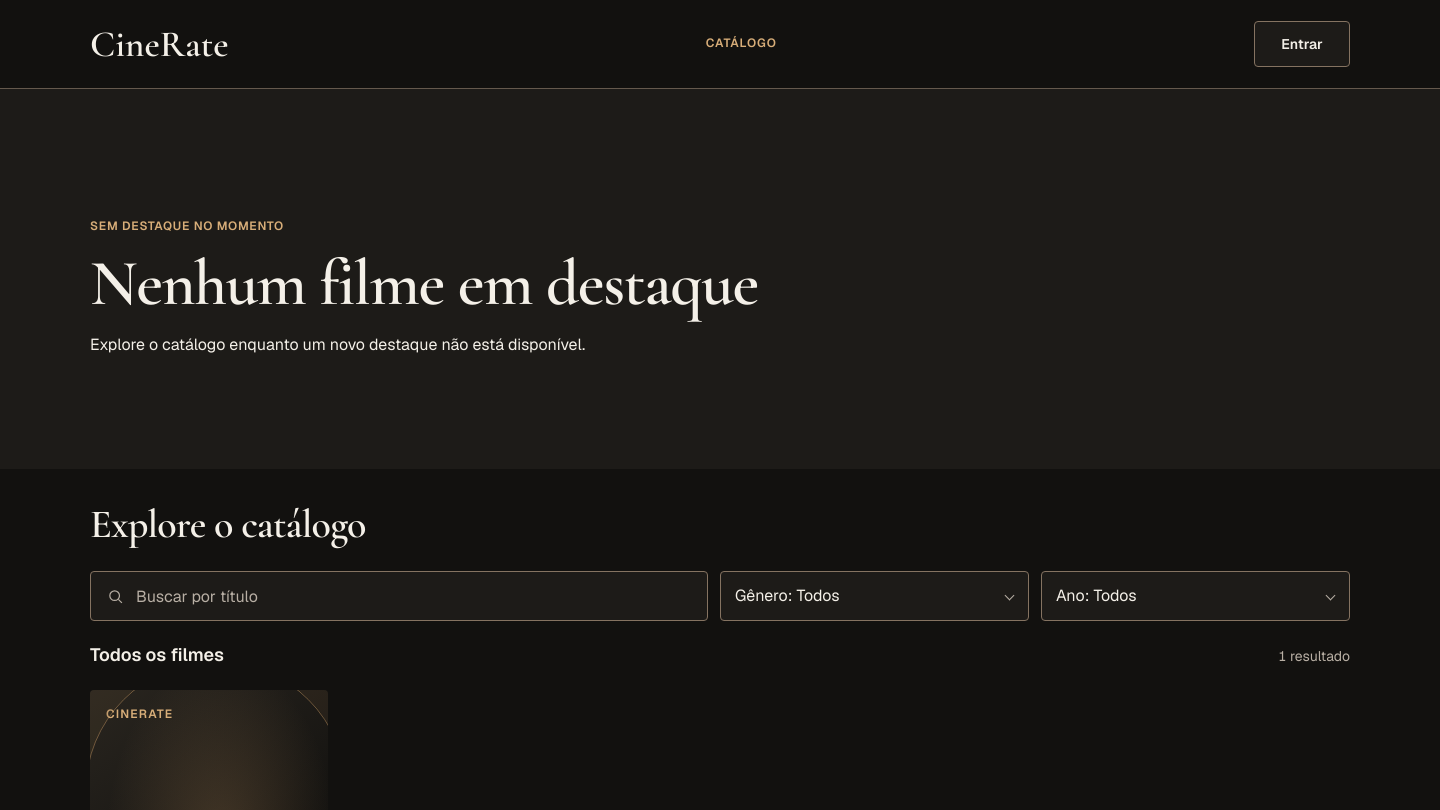
Test case: login revela administração e logout a oculta; credenciais inválidas mostram erro
Click the button "Entrar": (1302, 44) [1254,21,1350,67]
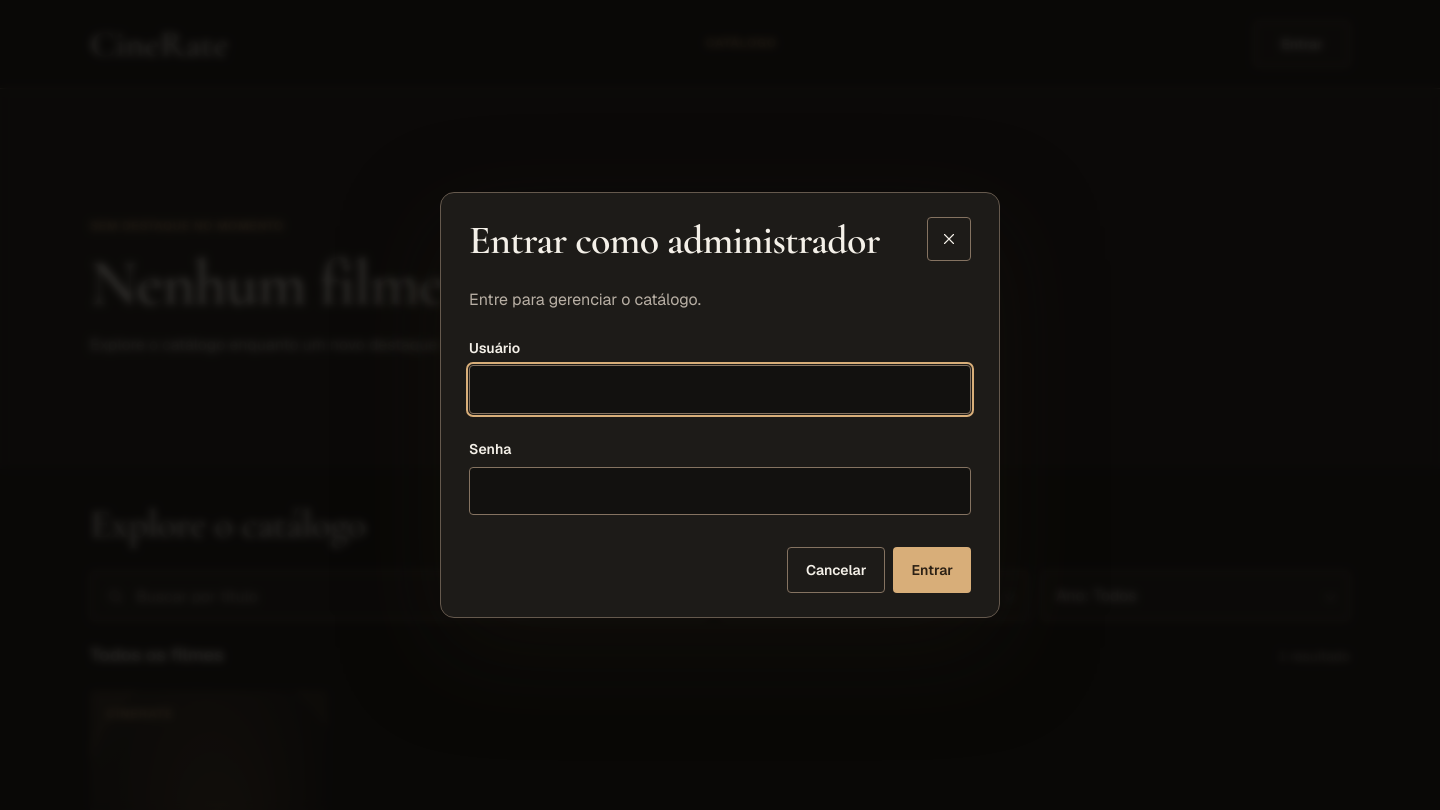
In the field labelled "Usuário": (720, 390) [469,365,971,414], type "admin"
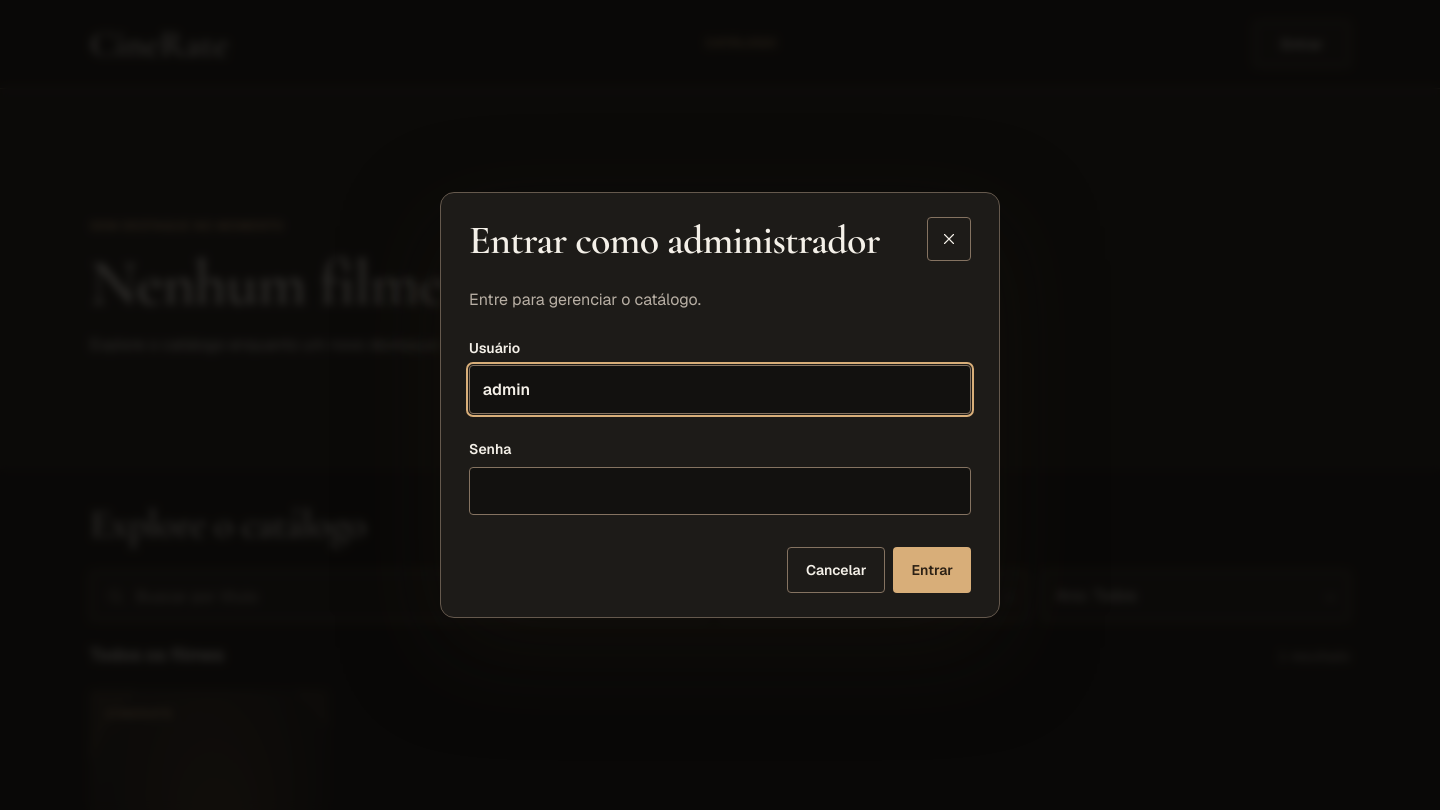
In the password field labelled "Senha": (720, 491) [469,467,971,515], type "errada"
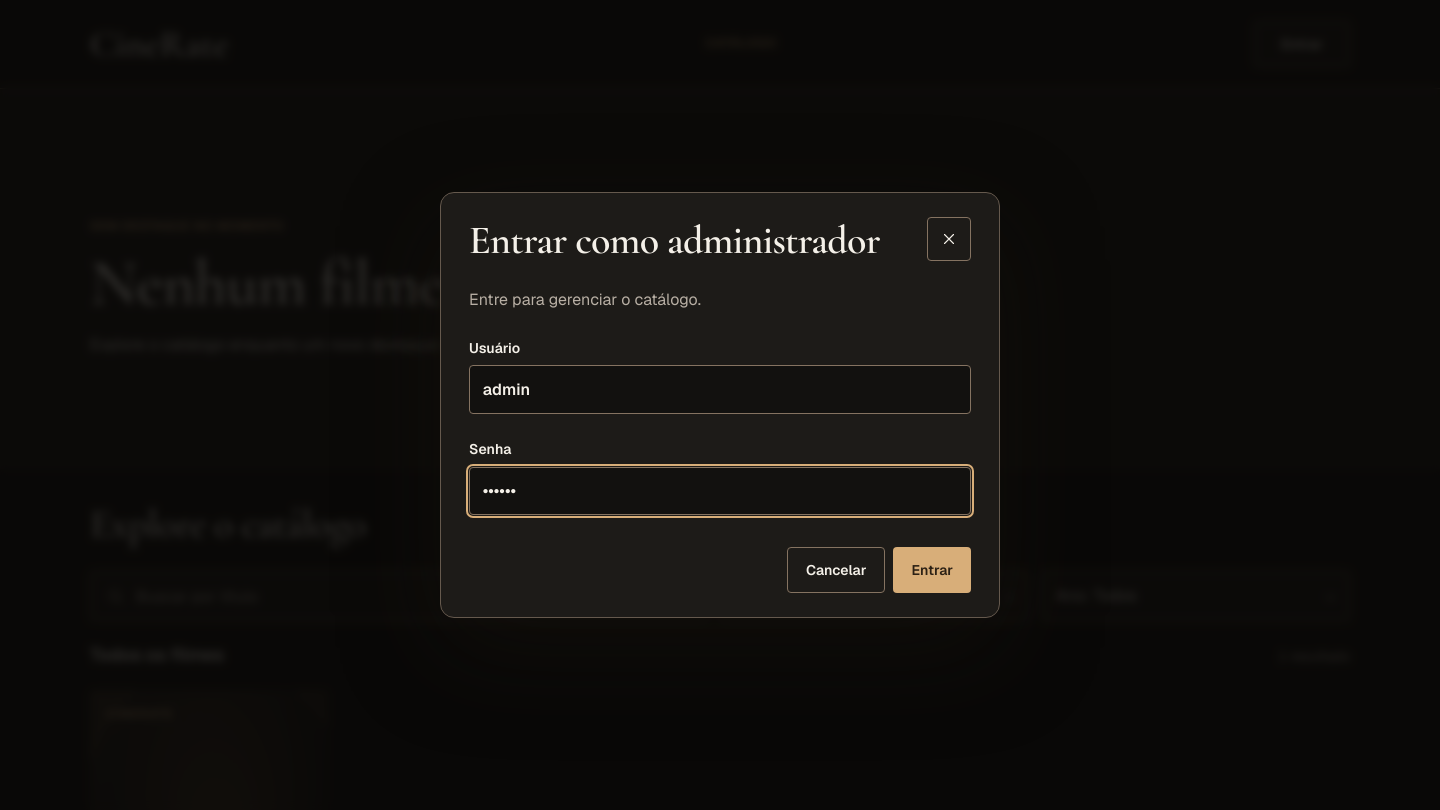
Click the button "Entrar": (932, 570) [893,547,971,593]
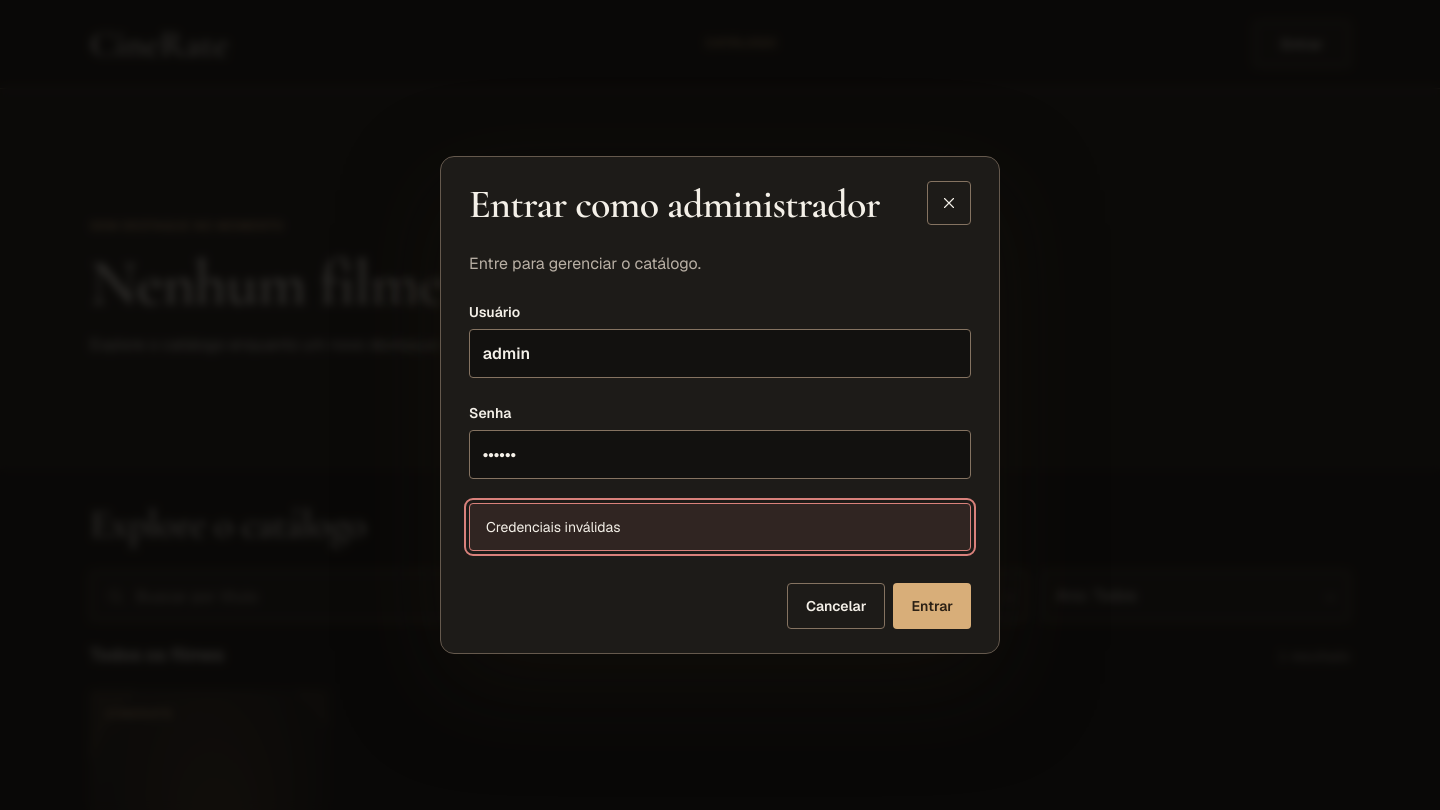
expect the message reads "Credenciais inválidas": met, box [486,518,620,536]
Click the button "Entrar": (932, 606) [893,583,971,629]
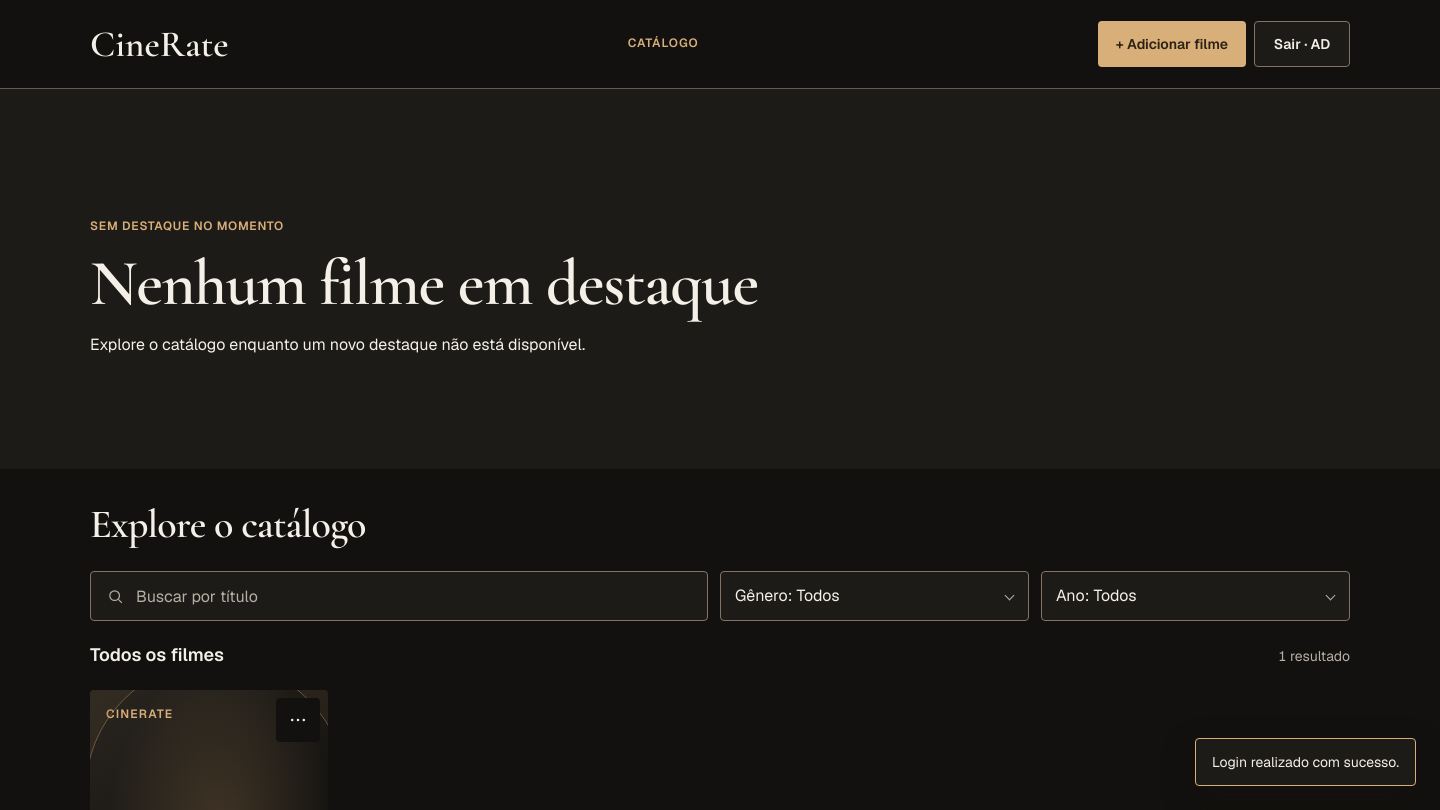
expect the button "+ Adicionar filme" is shown: met, box [1098,21,1246,67]
expect the heading named "Opções para Filme um" is shown: met, box [288,710,308,730]
Click the button "Sair · AD": (1302, 44) [1254,21,1350,67]
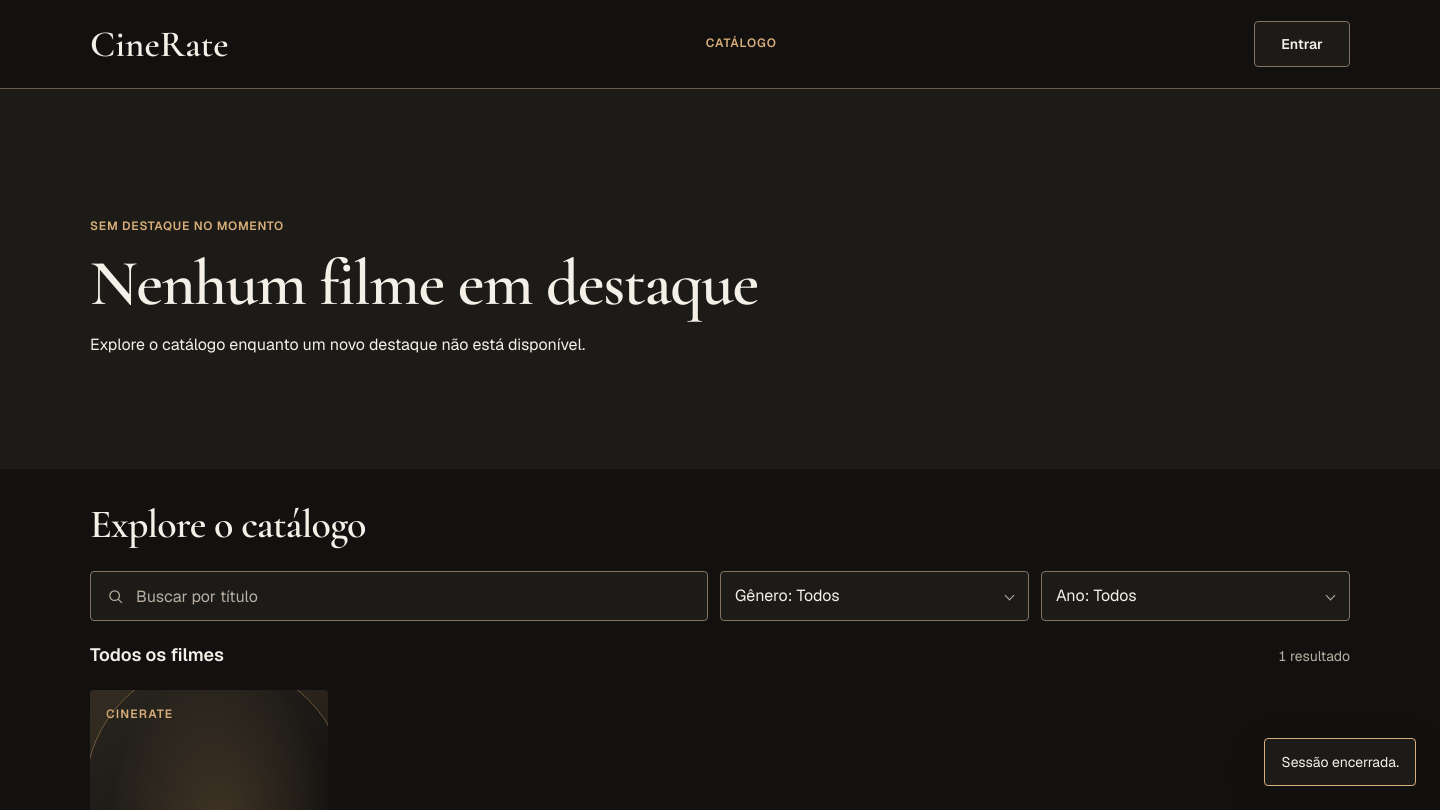
expect the button "+ Adicionar filme" is gone: met
